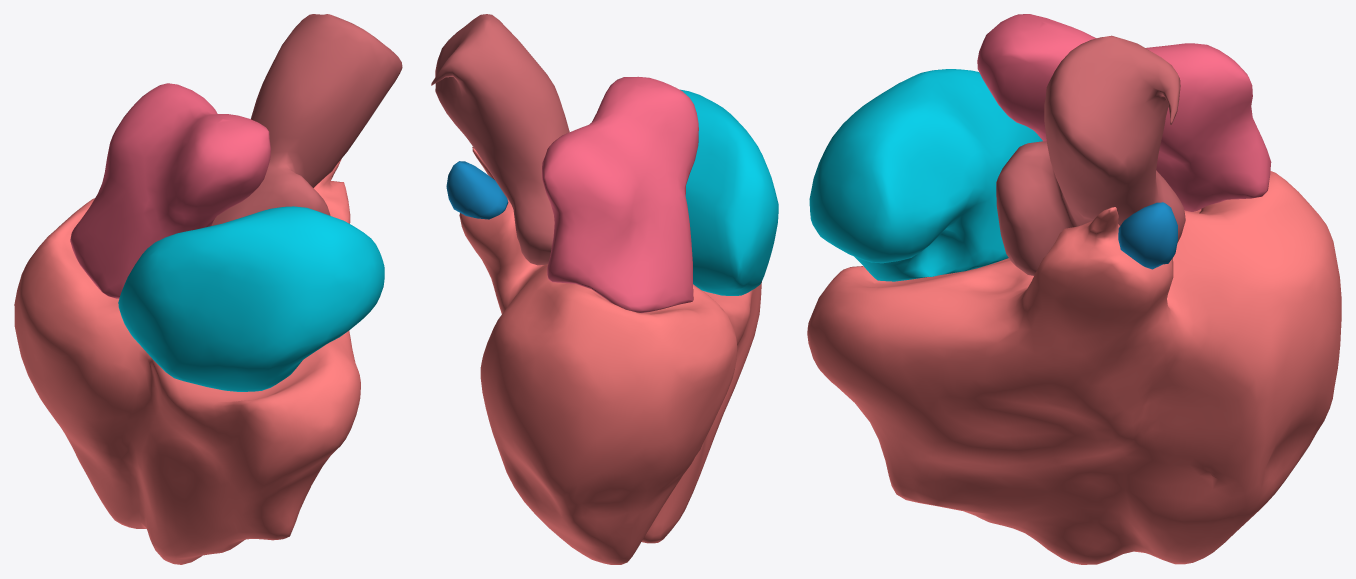
File: frame_13.glb
3 renders of one model, left to right at view 1: azimuth 30°, elevation 25°; view 2: azimuth 150°, elevation 25°; view 3: azimuth 270°, elevation 25°, orthographic. The views are drawn at different scales.
Visible parts, largest first — view 1: Renderer Node; view 2: Renderer Node; view 3: Renderer Node.
Part boxes in pixels (x1,y1,x2,y2): Renderer Node: [14, 14, 402, 564]; Renderer Node: [431, 14, 778, 564]; Renderer Node: [807, 14, 1341, 564].
Bounding box in the file's own units: 107 × 158 × 123.
